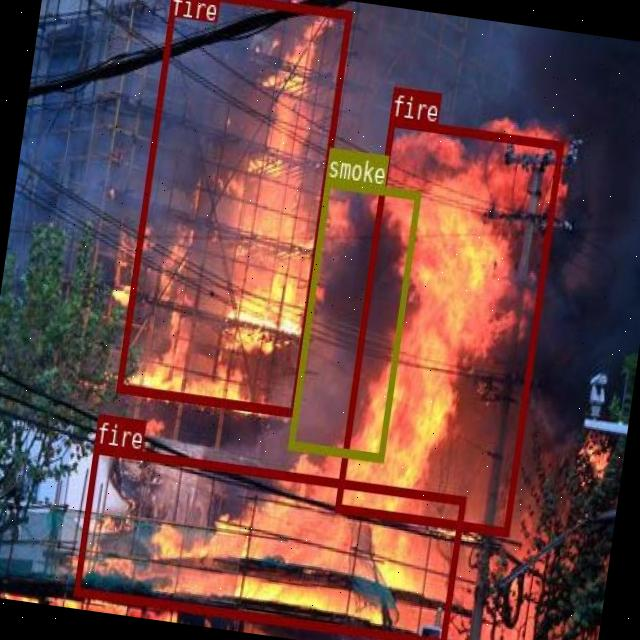fire: (116, 0, 351, 414), (334, 116, 564, 534), (72, 443, 465, 640)
smoke: (288, 178, 421, 462)
